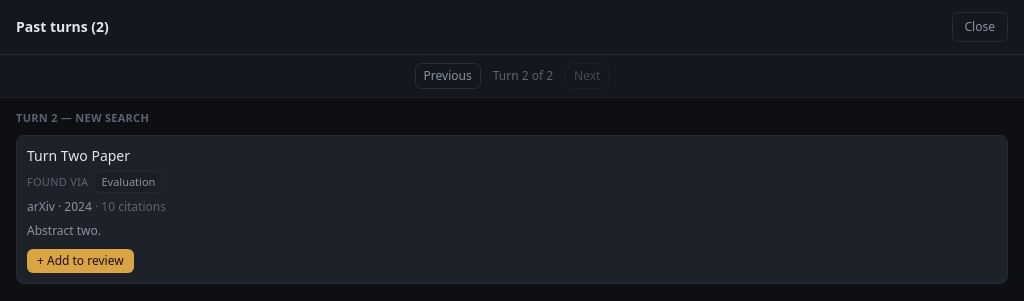
it: TurnHistoryBrowser -- Research Lanes (RL5) frozen provenance › shows each past turn's OWN frozen paper_lane_ids, not the session cumulative map
Expected: the element with test id "paper-lanes-p1" shows "Evaluation", top-left (101, 174), bottom-right (155, 189)
Expected: the element with test id "paper-lanes-p1" does not show "Retrieval", top-left (27, 171), bottom-right (162, 193)
Step 1. Click the button with test id "turn-history-prev" → {"x": 448, "y": 76}, box top-left (415, 63), bottom-right (481, 89)
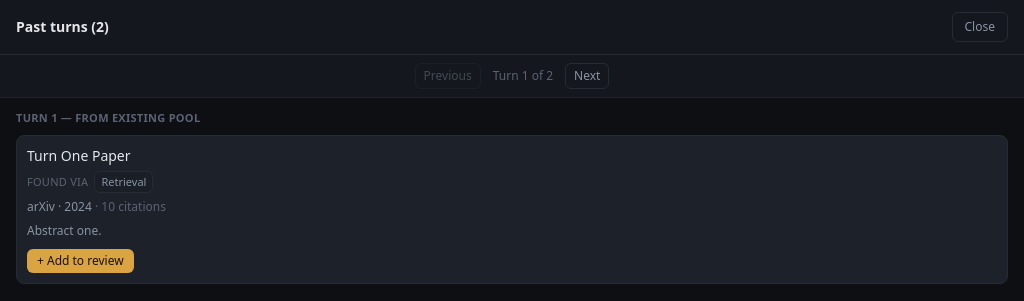
Expected: the element with test id "paper-lanes-p0" shows "Retrieval", top-left (101, 174), bottom-right (146, 189)
Expected: the element with test id "paper-lanes-p0" no longer shows "Evaluation", top-left (27, 171), bottom-right (153, 193)
